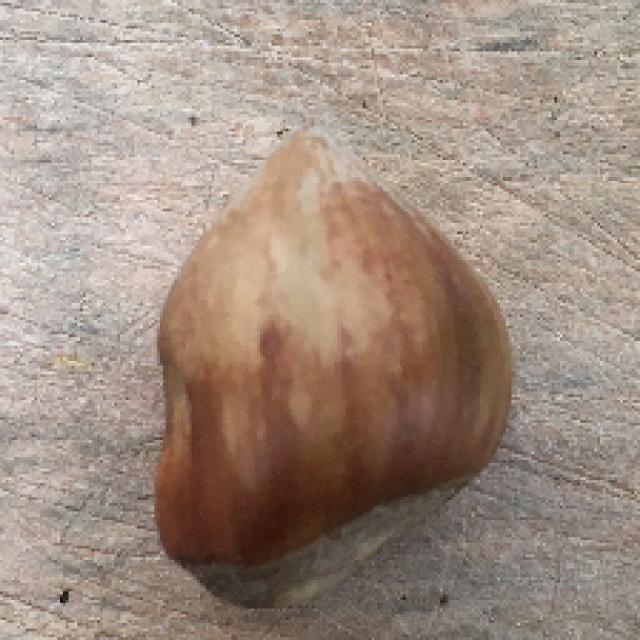DamagedHazelnut: (156, 116, 515, 614)
